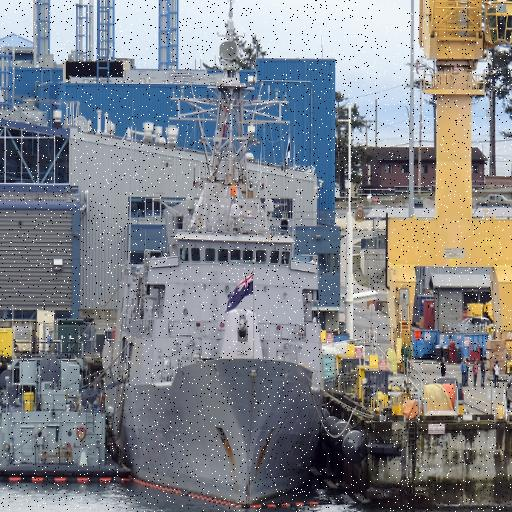Fragata: (111, 1, 330, 512)
